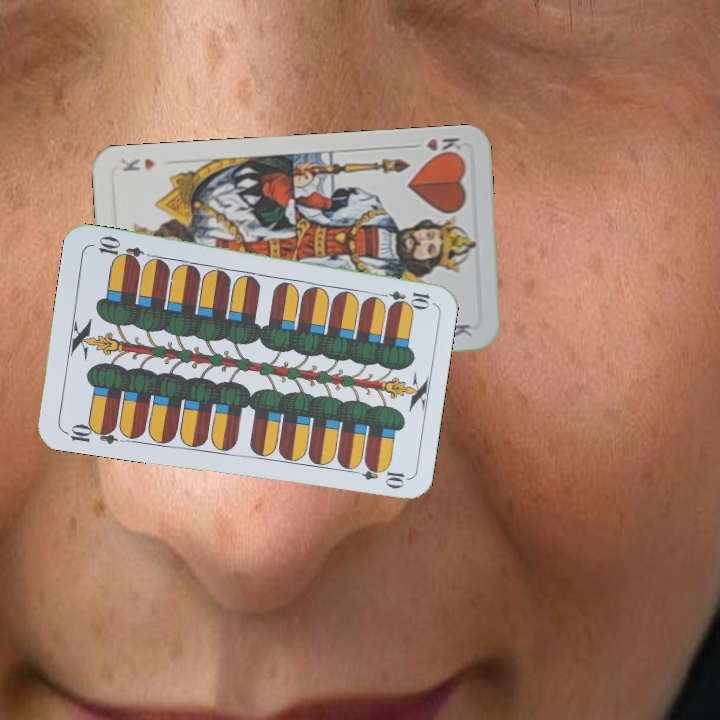E10: (60, 419, 119, 447), (373, 286, 432, 308)
HK: (405, 133, 465, 160)
